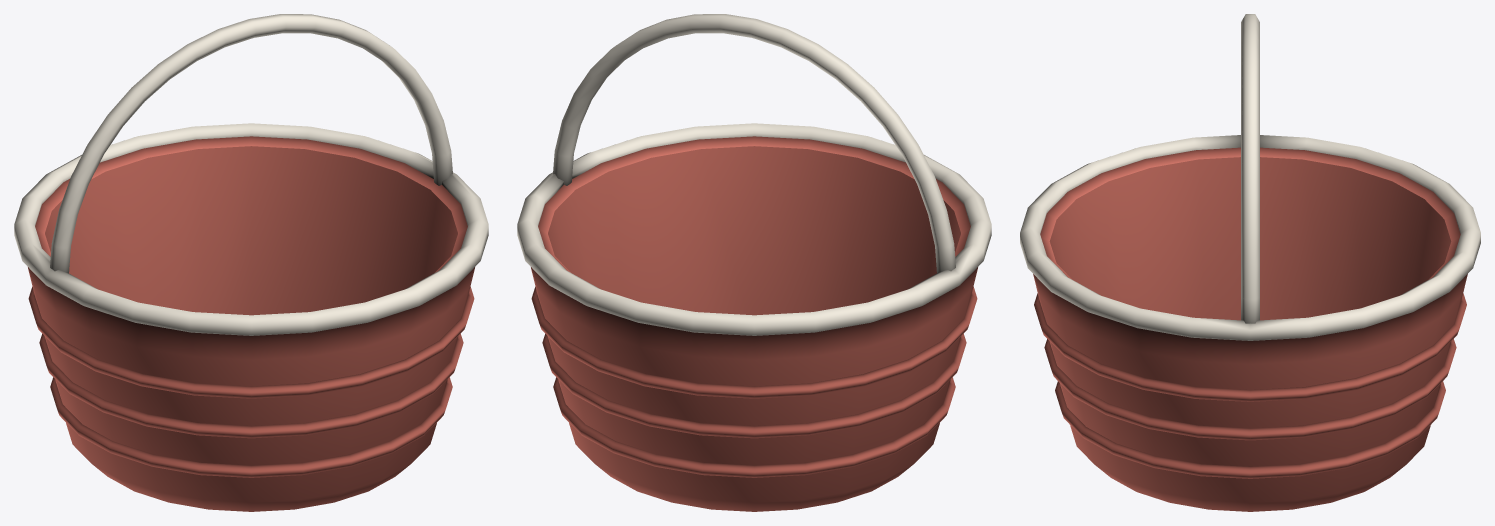
Rendered from forage_basket.glb.
The picture shows the model from 3 angles, left to right: view 1: azimuth 30°, elevation 25°; view 2: azimuth 150°, elevation 25°; view 3: azimuth 270°, elevation 25°; orthographic projection. The views are drawn at different scales.
Visible parts, largest first — view 1: PART; view 2: PART; view 3: PART.
Part boxes in pixels (x1=…): PART: x1=14, y1=14, x2=488, y2=511; PART: x1=517, y1=14, x2=991, y2=511; PART: x1=1020, y1=14, x2=1480, y2=511.
Size of the model in its own units: 0.2434 by 0.2383 by 0.2434.
